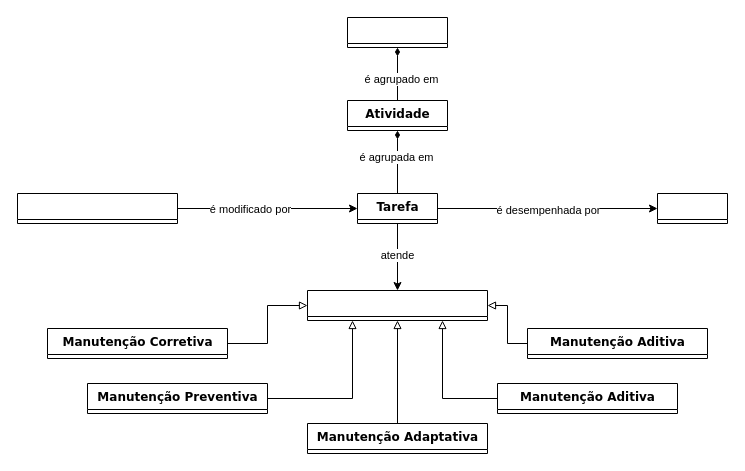
The diagram is 745 pixels wide and 471 high, and some of its shapes have lost their labels. Each missing label, with the box of its shape:
Papel: (656, 192, 728, 224)
Processo: (346, 16, 448, 48)
Produto de Trabalho: (16, 192, 178, 224)
Solicitação de Mudança: (306, 290, 488, 320)
